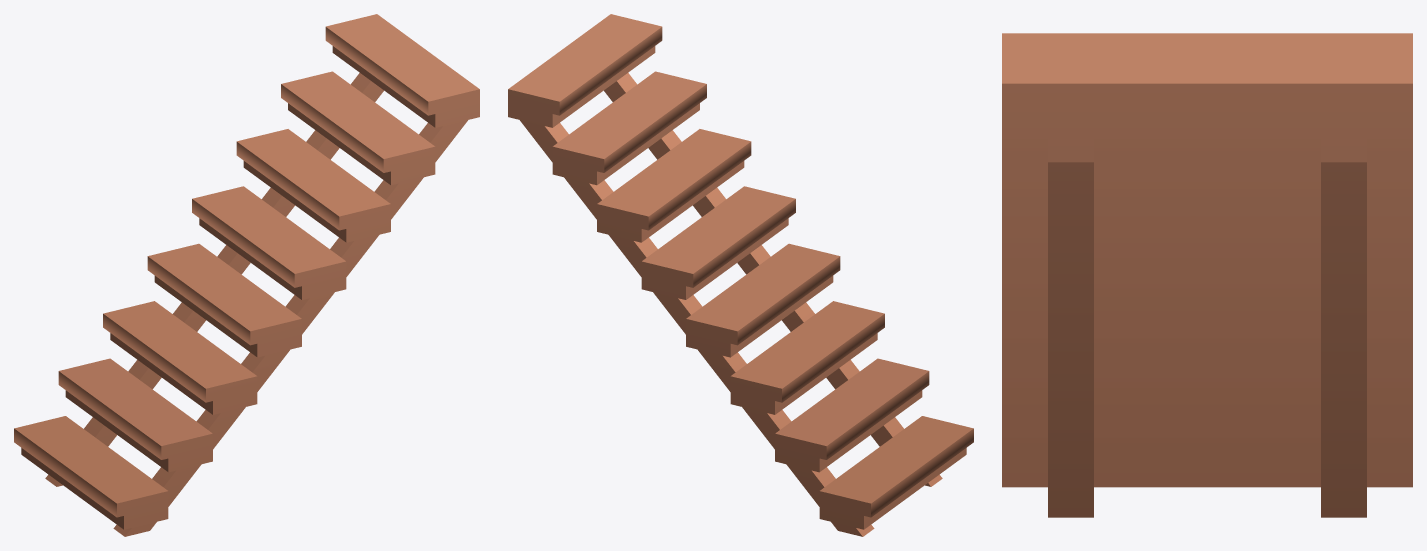
File: stairs_wood.glb
The picture shows the model from 3 angles, left to right: view 1: azimuth 30°, elevation 25°; view 2: azimuth 150°, elevation 25°; view 3: azimuth 270°, elevation 25°; orthographic projection. The views are drawn at different scales.
Parts seen in each view (by area): view 1: stairs-wood; view 2: stairs-wood; view 3: stairs-wood.
Boxes of the visible parts, box(x1,y1,x2,y2) form: stairs-wood: box(14, 14, 479, 536); stairs-wood: box(508, 14, 973, 536); stairs-wood: box(1002, 33, 1412, 517).
Bounding box in the file's own units: 1.02 × 1 × 0.5.
1 material, 1 textured.
